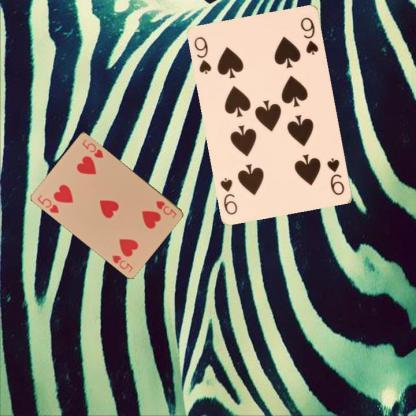5h: (35, 192, 61, 214), (154, 198, 178, 220)
9s: (324, 155, 346, 197), (192, 34, 214, 76)
